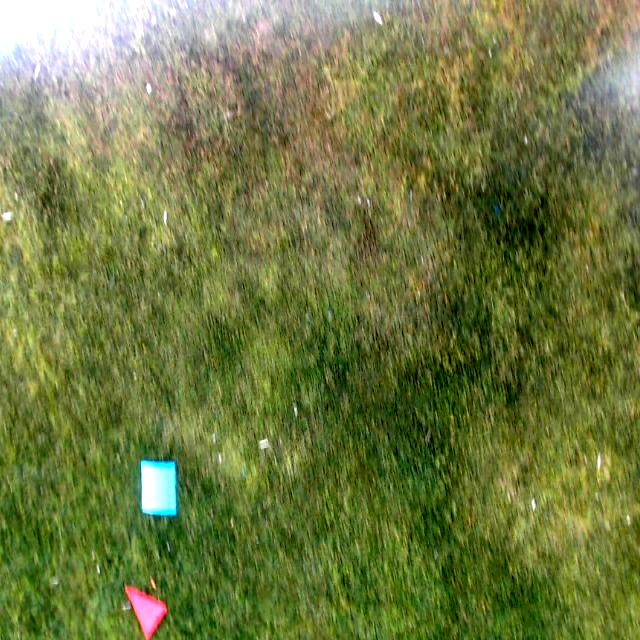blue_square: (141, 461, 177, 514)
red_triangle: (124, 588, 164, 640)
